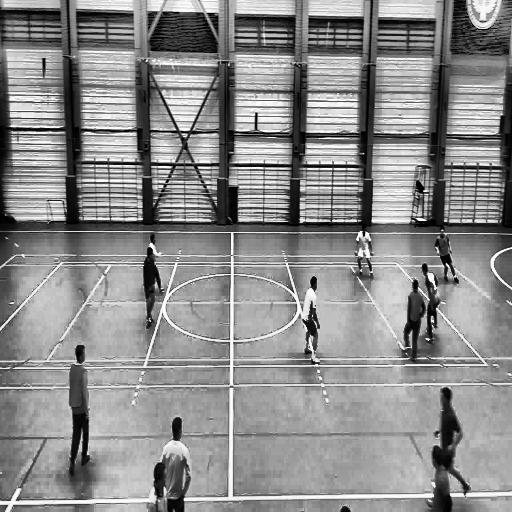ball: (426, 324, 431, 336)
player: (434, 386, 469, 499), (67, 345, 94, 478), (162, 417, 192, 510), (301, 274, 322, 369), (403, 281, 424, 366), (429, 444, 452, 512), (434, 224, 460, 284), (354, 222, 378, 282), (422, 262, 439, 344), (143, 247, 157, 329), (148, 462, 170, 512), (148, 233, 165, 294)
